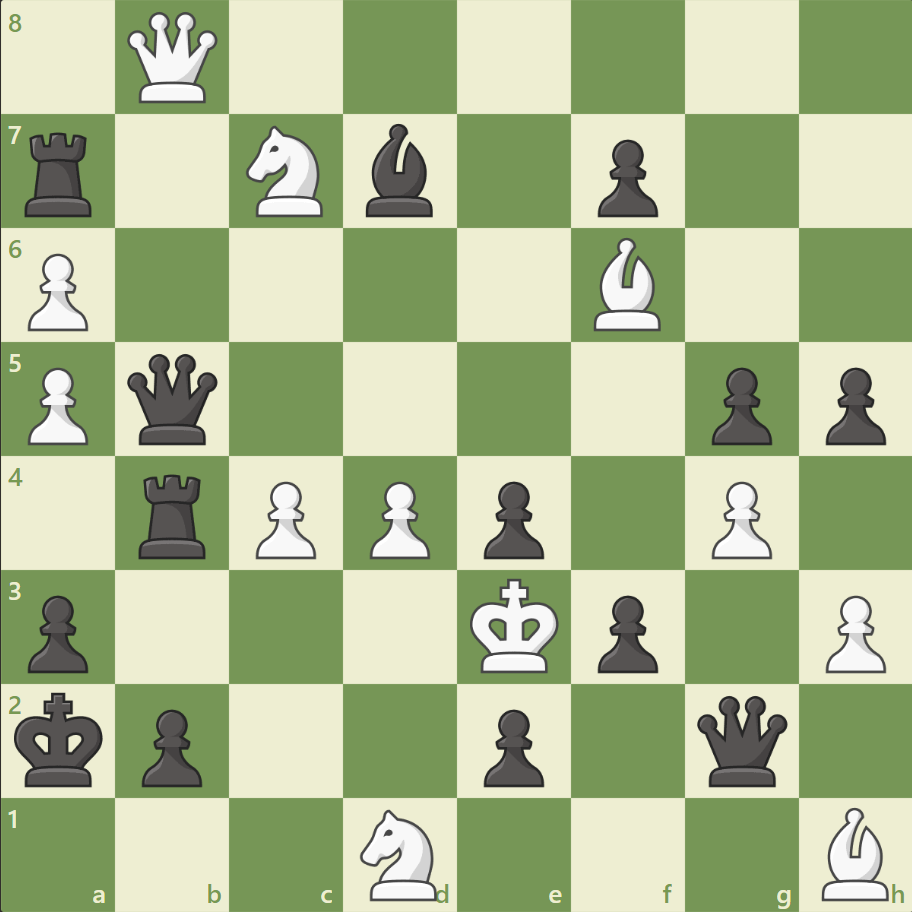B: (585, 233, 669, 336), (812, 801, 896, 904)
K: (465, 571, 565, 679)
N: (351, 802, 449, 904), (238, 121, 335, 223)
P: (20, 246, 95, 337), (20, 359, 95, 450), (247, 473, 322, 564), (701, 473, 776, 564), (361, 473, 435, 564), (815, 586, 889, 677)
Q: (124, 9, 223, 108)
b: (358, 120, 442, 222)
k: (11, 685, 111, 793)
p: (701, 359, 776, 450), (474, 473, 549, 564), (20, 586, 95, 677), (133, 700, 208, 791), (474, 700, 549, 791), (588, 132, 662, 223), (815, 359, 889, 450), (588, 586, 662, 677)
q: (124, 349, 223, 449), (691, 690, 790, 789)
r: (19, 125, 102, 222), (133, 466, 215, 563)
